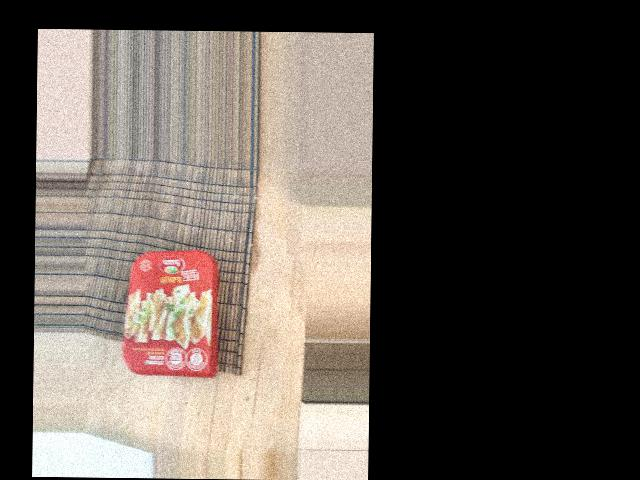cheese: (85, 188, 223, 275)
